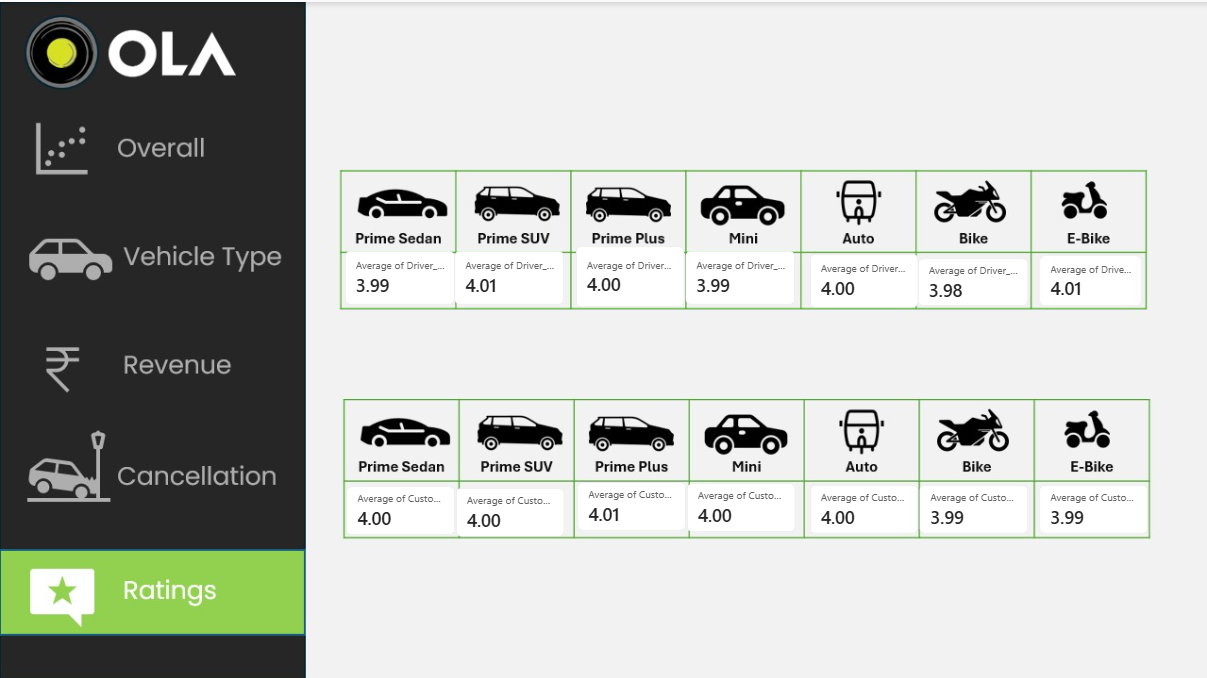

Layout of this report page (visuals, bound fields, positions):
{"tool":"powerbi","page":{"name":"Rating","canvas":[1920,1080],"ordinal":4},"visuals":[{"type":"cardVisual","fields":{"Data":["Avg(July.Driver_Ratings)"]},"box":[549.9,396.9,174.2,85.9],"z":0},{"type":"cardVisual","fields":{"Data":["Avg(July.Driver_Ratings)"]},"box":[722.8,396.9,174.2,85.9],"z":1000},{"type":"cardVisual","fields":{"Data":["Avg(July.Driver_Ratings)"]},"box":[915,390,172.9,96.4],"z":2000},{"type":"cardVisual","fields":{"Data":["Avg(July.Driver_Ratings)"]},"box":[1090,395,174.2,85.9],"z":3000},{"type":"cardVisual","fields":{"Data":["Avg(July.Driver_Ratings)"]},"box":[1287.5,400,172.5,85],"z":4000},{"type":"cardVisual","fields":{"Data":["Avg(July.Driver_Ratings)"]},"box":[1460,407.5,175,75],"z":5000},{"type":"cardVisual","fields":{"Data":["Avg(July.Driver_Ratings)"]},"box":[1652.5,402.5,162.5,80],"z":6000},{"type":"cardVisual","fields":{"Data":["Avg(July.Customer_Rating)"]},"box":[550,770,172.5,77.5],"z":7000},{"type":"cardVisual","fields":{"Data":["Avg(July.Customer_Rating)"]},"box":[725,772.5,172.5,77.5],"z":8000},{"type":"cardVisual","fields":{"Data":["Avg(July.Customer_Rating)"]},"box":[917.5,762.5,172.5,77.5],"z":9000},{"type":"cardVisual","fields":{"Data":["Avg(July.Customer_Rating)"]},"box":[1092.5,765,172.5,77.5],"z":10000},{"type":"cardVisual","fields":{"Data":["Avg(July.Customer_Rating)"]},"box":[1287.5,767.5,172.5,77.5],"z":11000},{"type":"cardVisual","fields":{"Data":["Avg(July.Customer_Rating)"]},"box":[1462.5,767.5,172.5,77.5],"z":12000},{"type":"cardVisual","fields":{"Data":["Avg(July.Customer_Rating)"]},"box":[1652.5,767.5,172.5,77.5],"z":12001}]}

Visuals, with their boxes on the page's 1920x1080 design canvas (x1, y1, x2, y2). These are canvas units, not pixel positions in the 1207x678 screenshot, which may show the page scaled, cropped or inside an application window:
cardVisual - Avg(July.Driver_Ratings): [550,397,724,483]
cardVisual - Avg(July.Driver_Ratings): [723,397,897,483]
cardVisual - Avg(July.Driver_Ratings): [915,390,1088,486]
cardVisual - Avg(July.Driver_Ratings): [1090,395,1264,481]
cardVisual - Avg(July.Driver_Ratings): [1288,400,1460,485]
cardVisual - Avg(July.Driver_Ratings): [1460,408,1635,482]
cardVisual - Avg(July.Driver_Ratings): [1652,402,1815,482]
cardVisual - Avg(July.Customer_Rating): [550,770,722,848]
cardVisual - Avg(July.Customer_Rating): [725,772,898,850]
cardVisual - Avg(July.Customer_Rating): [918,762,1090,840]
cardVisual - Avg(July.Customer_Rating): [1092,765,1265,842]
cardVisual - Avg(July.Customer_Rating): [1288,768,1460,845]
cardVisual - Avg(July.Customer_Rating): [1462,768,1635,845]
cardVisual - Avg(July.Customer_Rating): [1652,768,1825,845]
